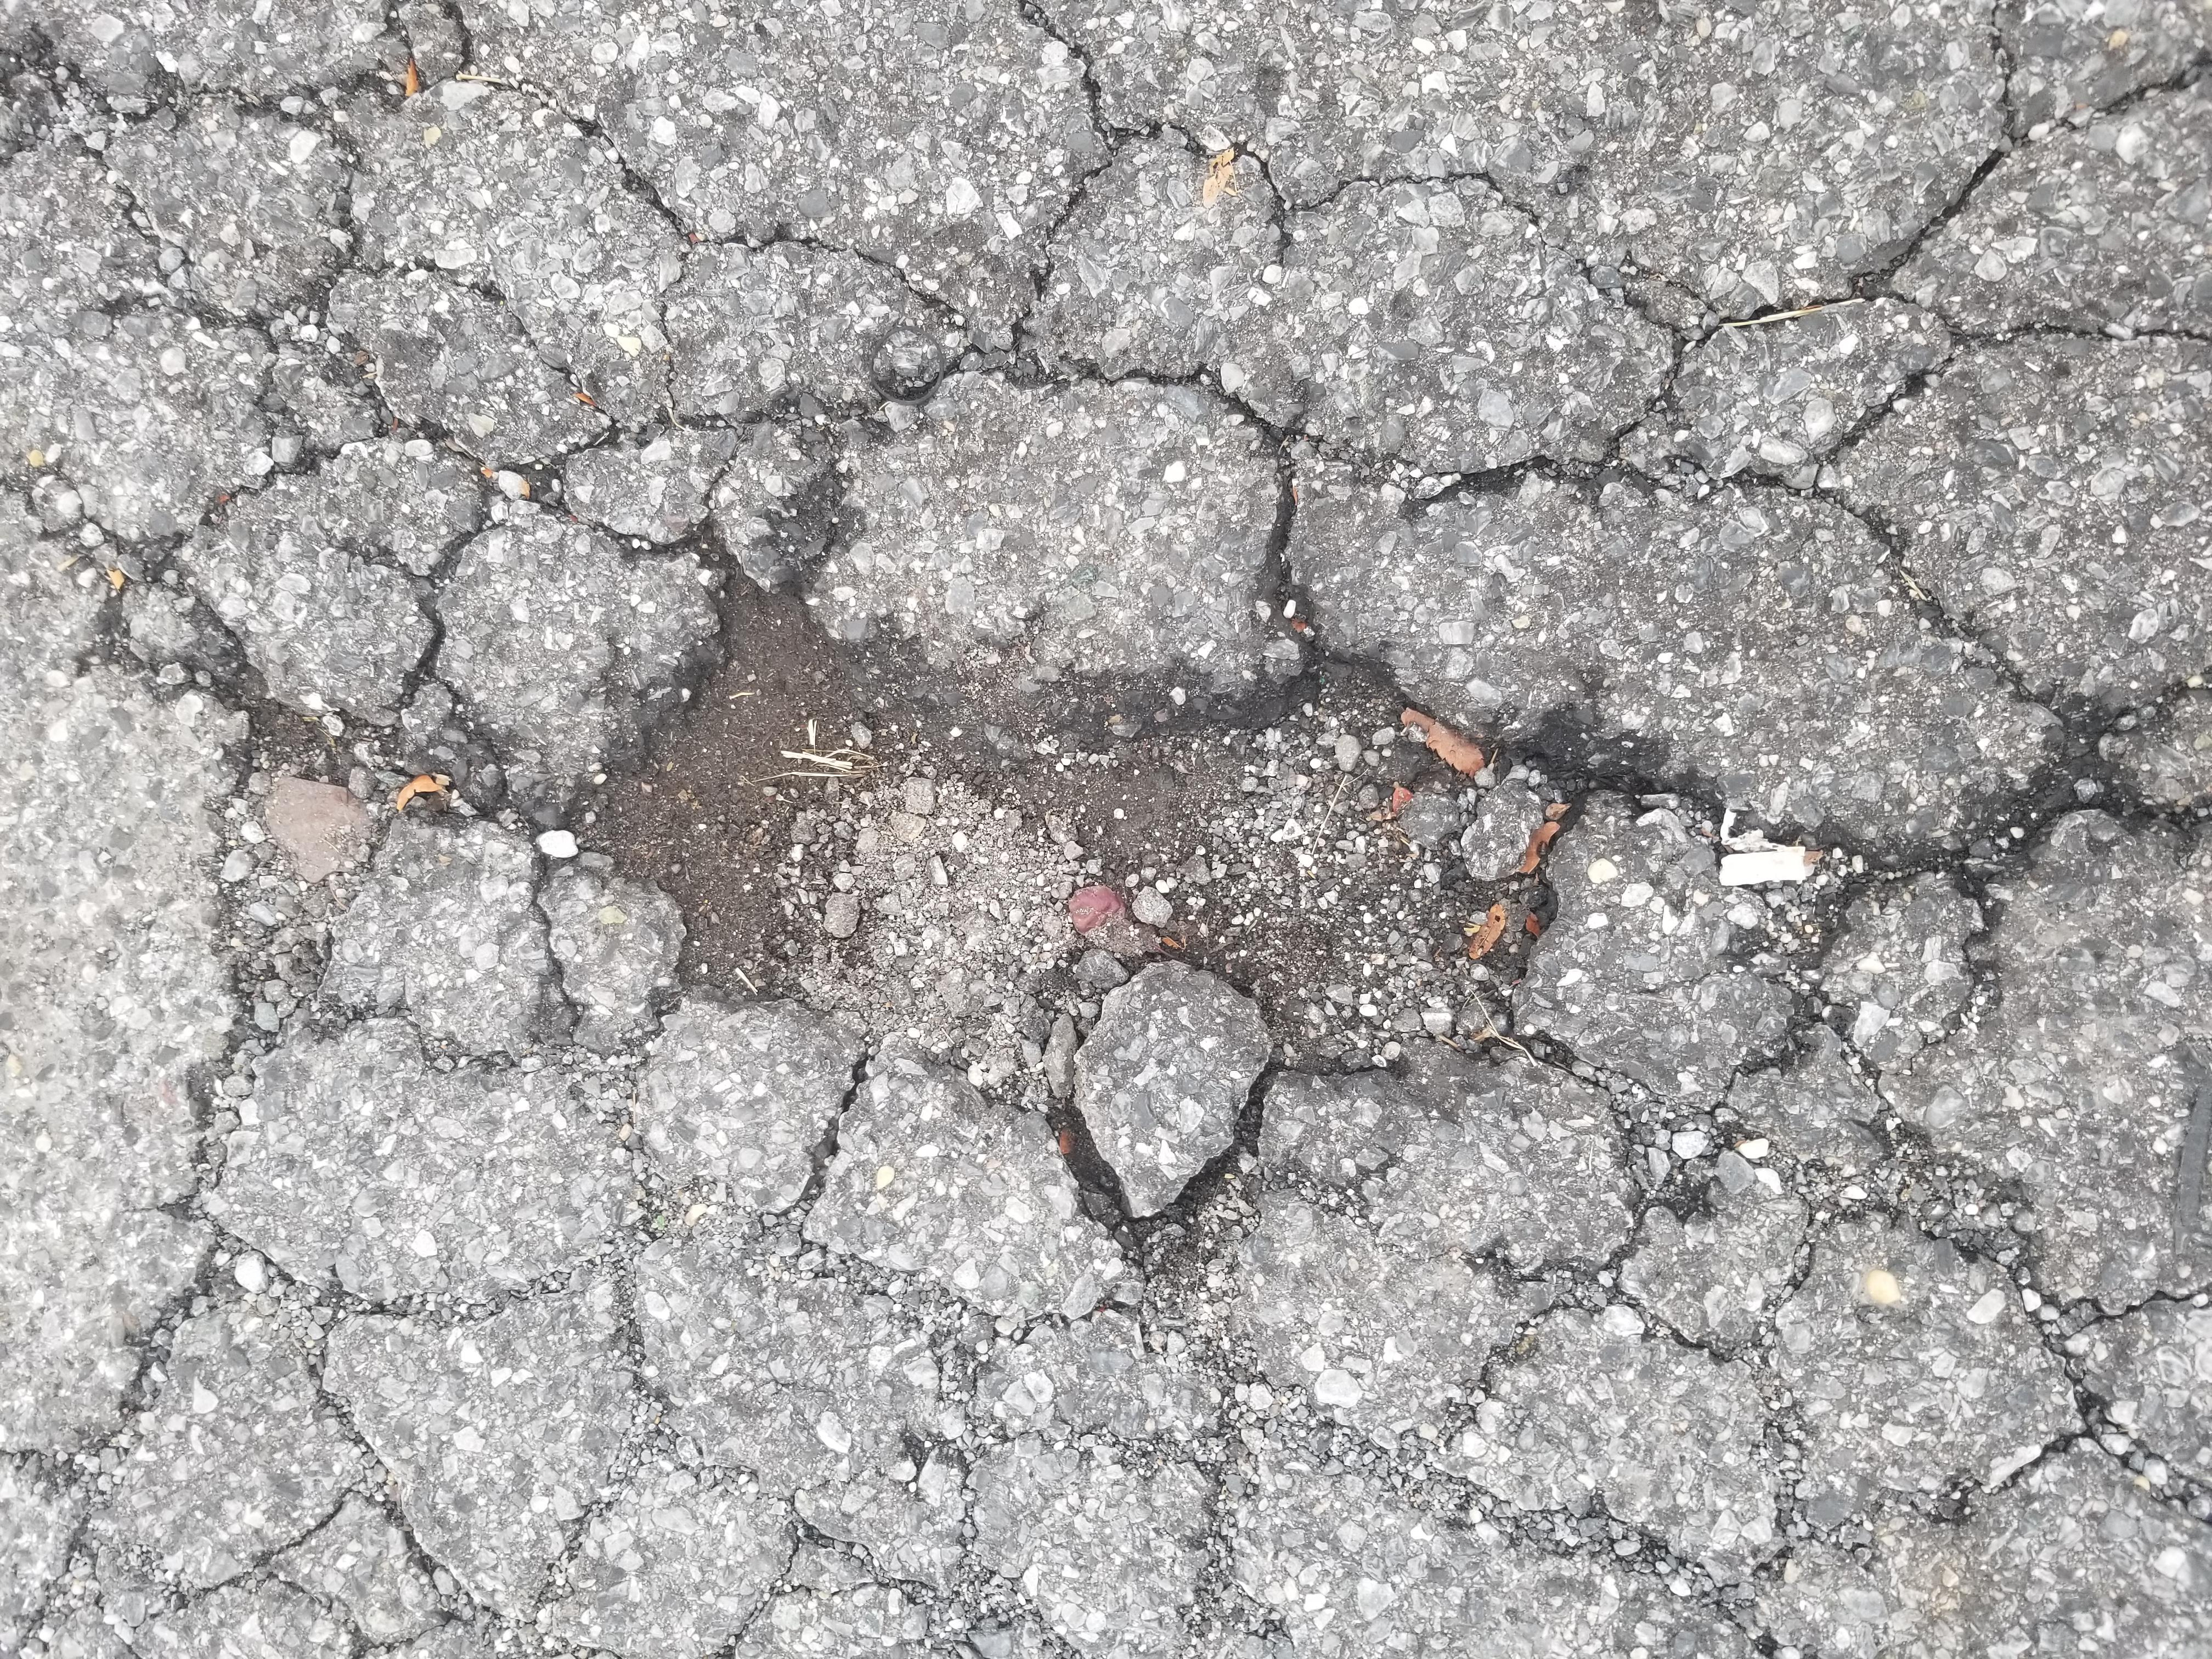alligator-crack: (12, 3, 2212, 1659)
